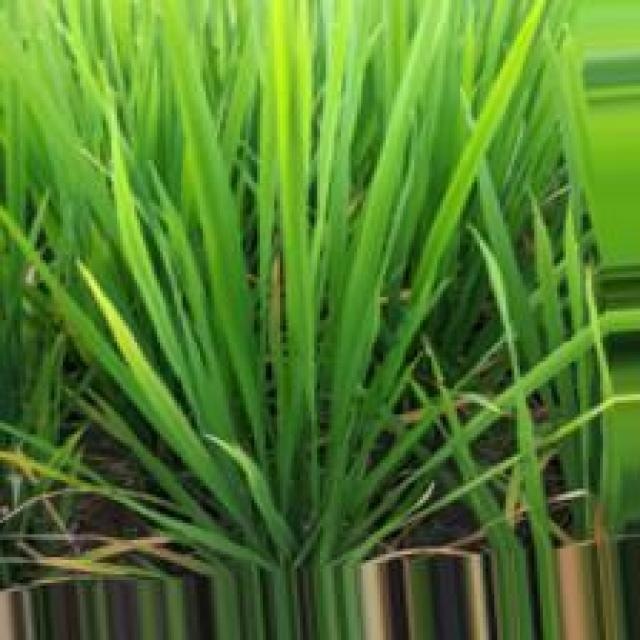HealthyLeaf: (147, 8, 266, 435)
